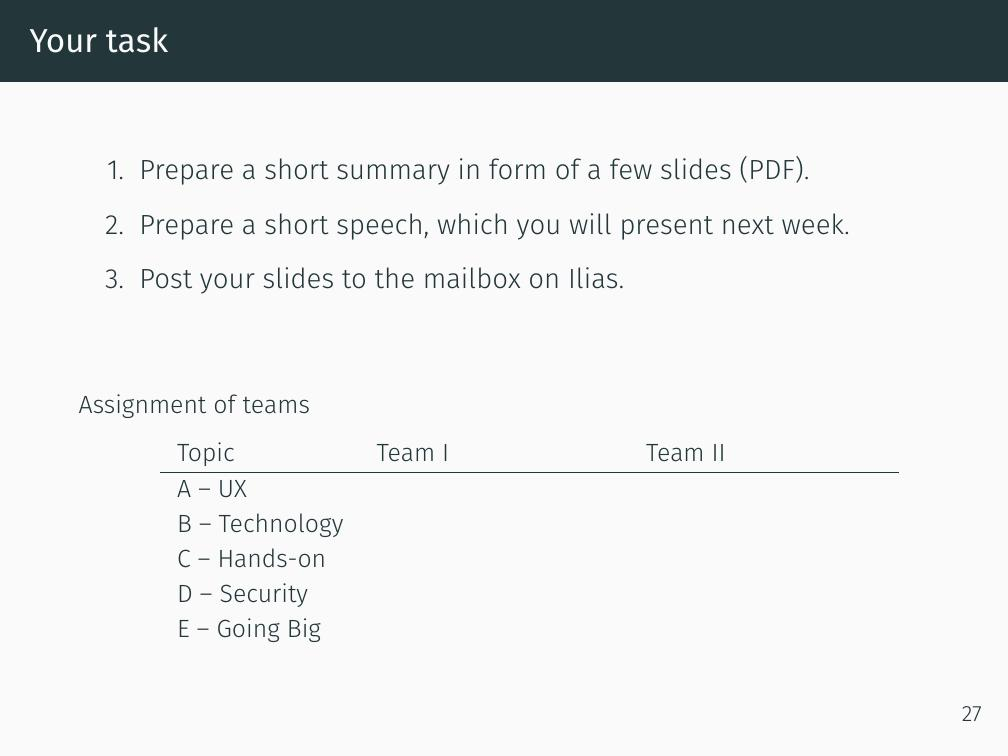Title: (17, 23, 174, 64)
